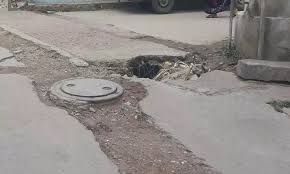Manhole-Closed: (48, 73, 128, 109)
Manhole-Open: (131, 56, 165, 81)
